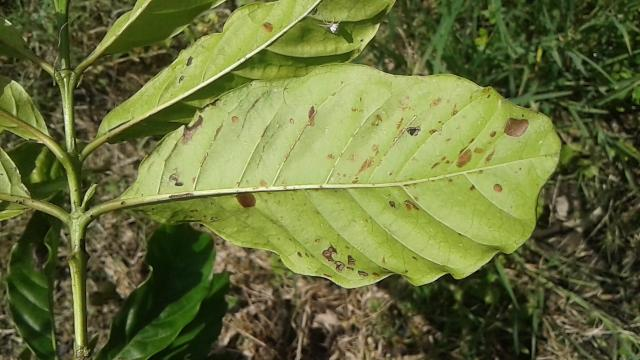red_spider_mite: (118, 54, 566, 292)
